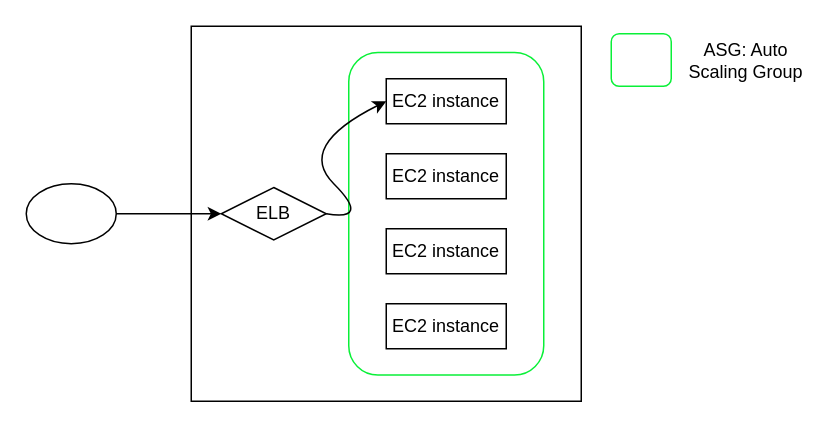
This 833x428 diagram has some shape labels left out. Each missing label, with the centre of its shape:
"ASG" belongs at (x=640, y=59).
"Client" belongs at (x=70, y=213).
